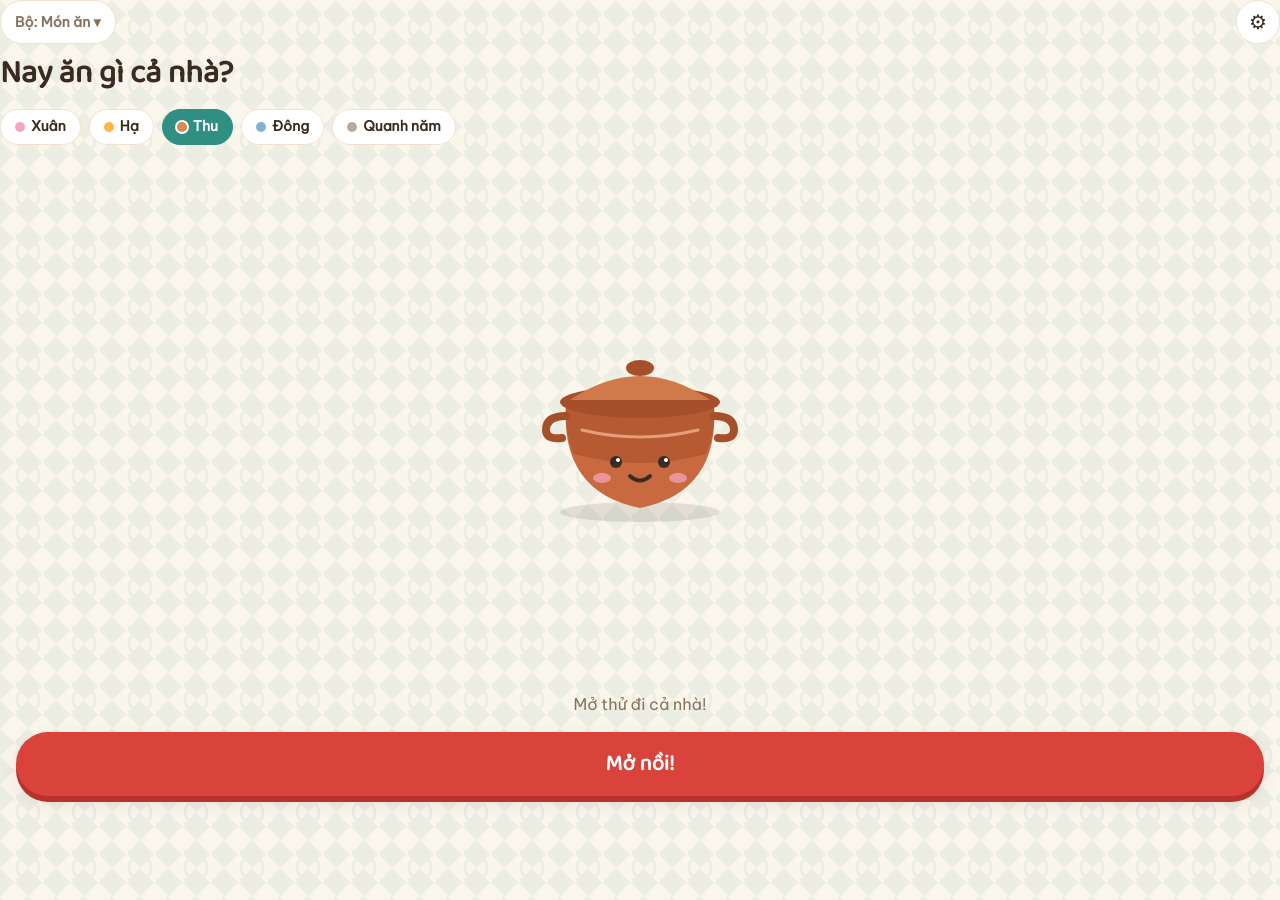
SpinScreen › Esc khi đang bật: đóng mâm; mở lại mâm cũ thì hiện đủ, không bật lại
Click the button "Mở nồi!".
click(640, 764)  # box x1=16 y1=732 x2=1264 y2=796
Wait 2150 ms
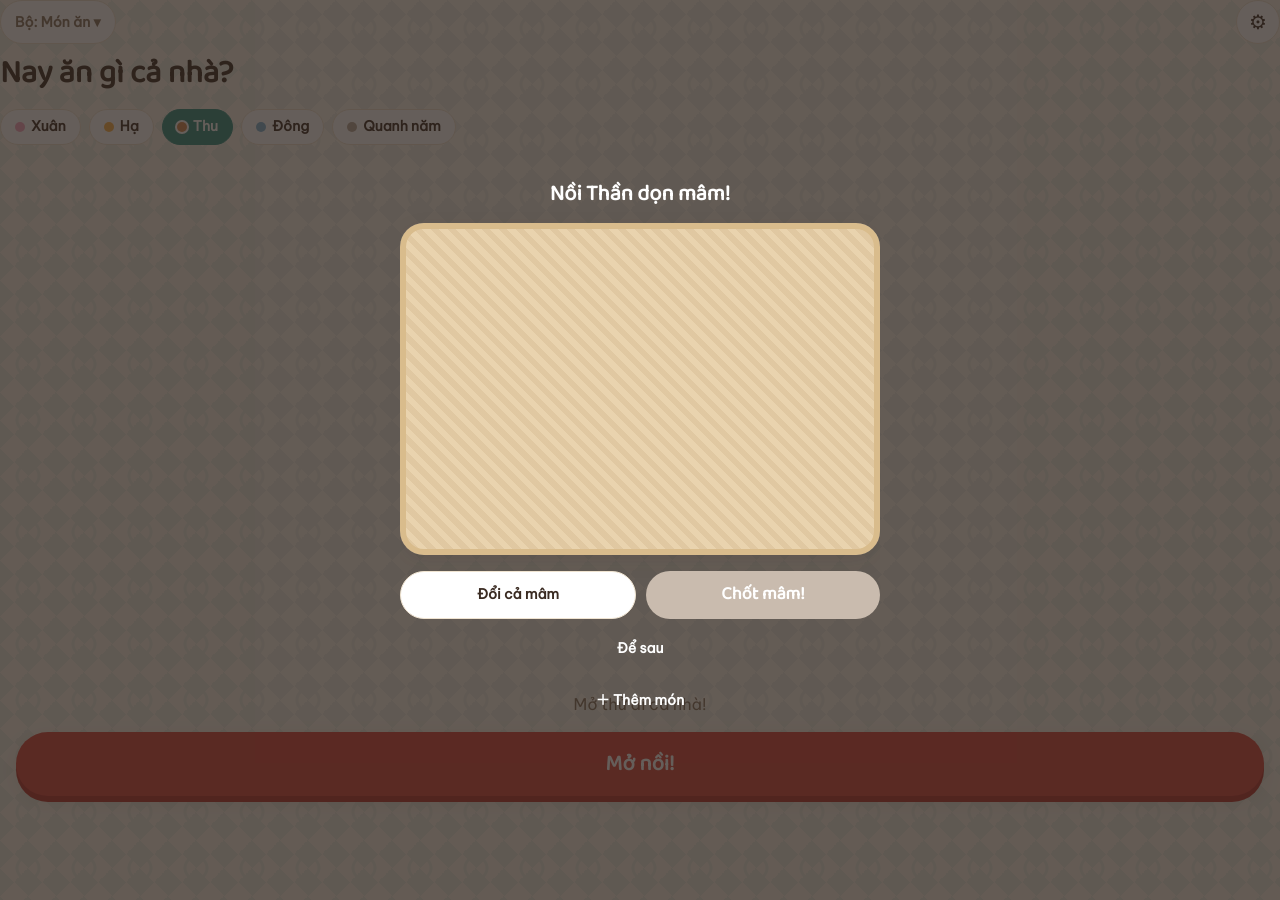
Press Escape
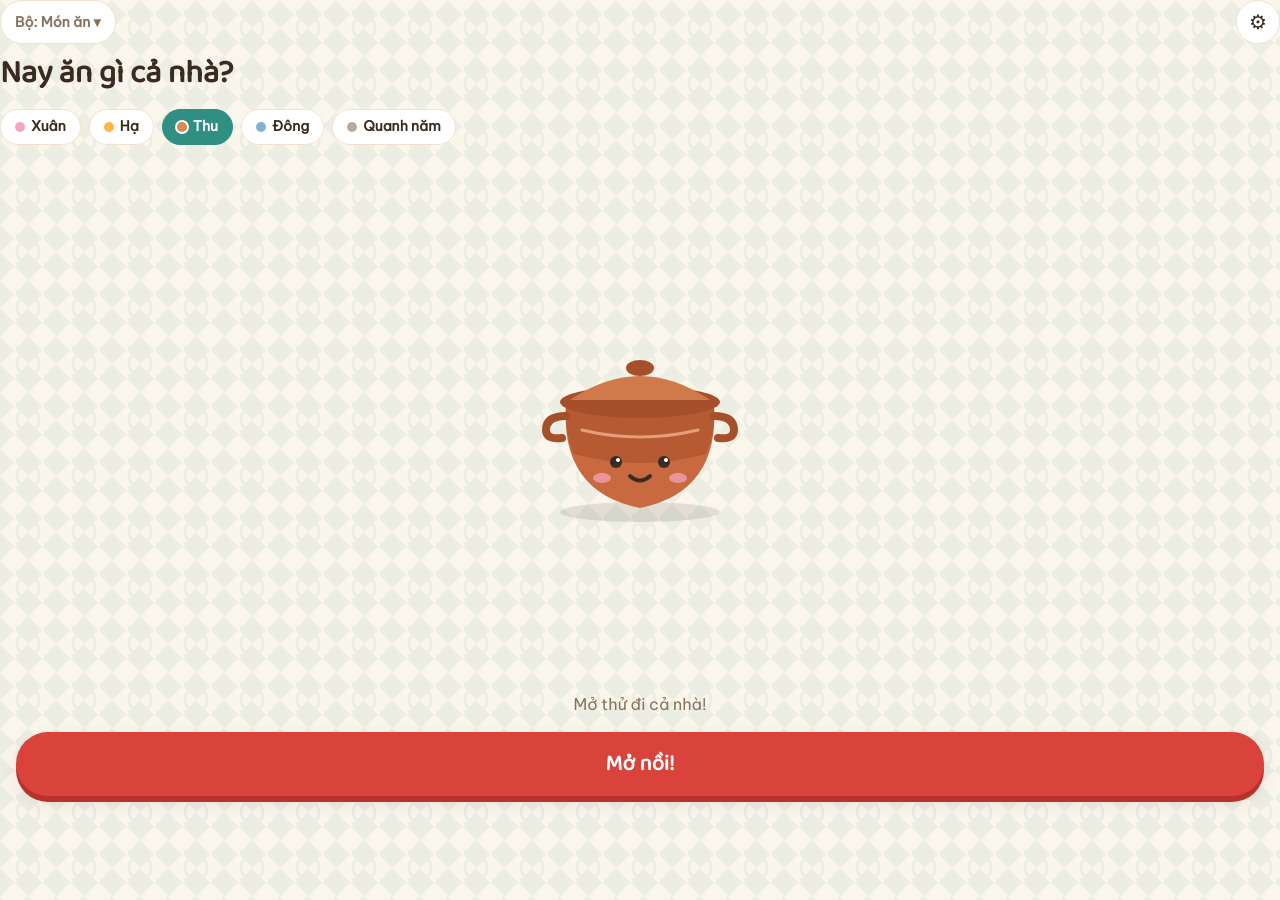
Check: the dialog is gone
